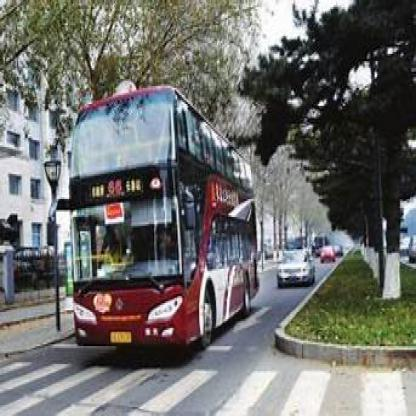bus: (64, 100, 257, 345)
car: (275, 251, 319, 292), (321, 245, 336, 266)
